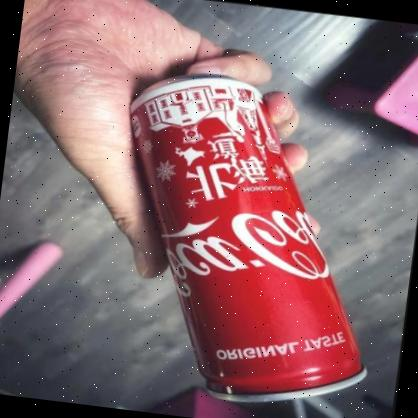can: (91, 64, 404, 418)
